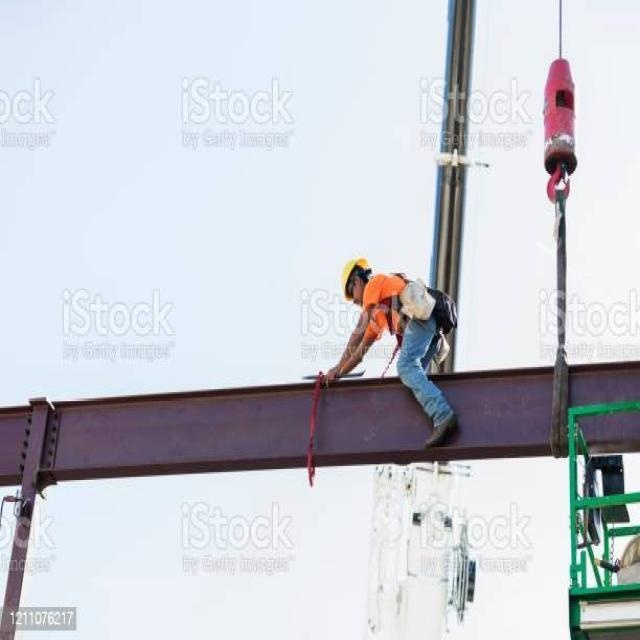Arnes_seguridad: (367, 265, 423, 357)
